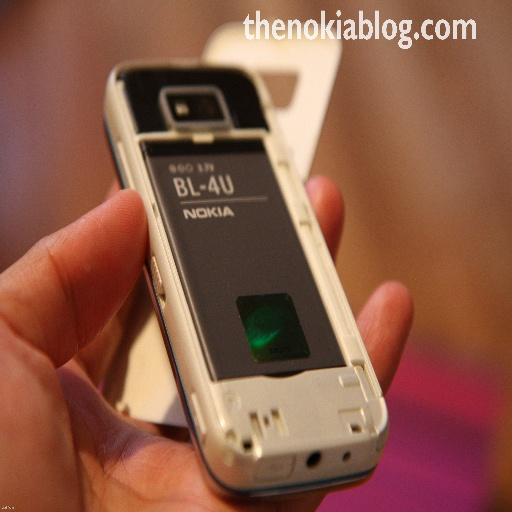hand: (0, 173, 413, 511)
